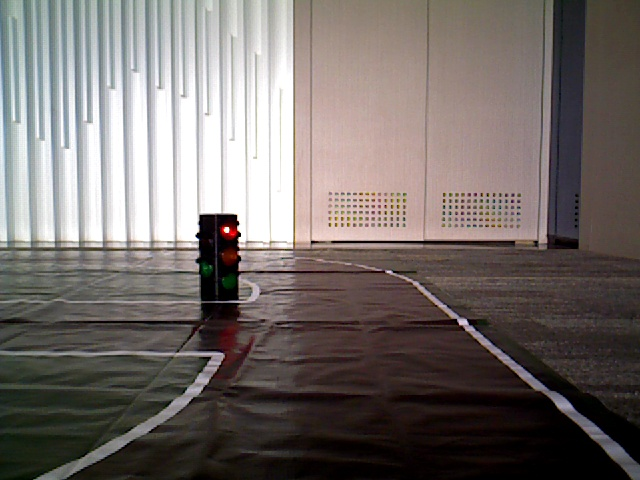red: (214, 218, 237, 289)
